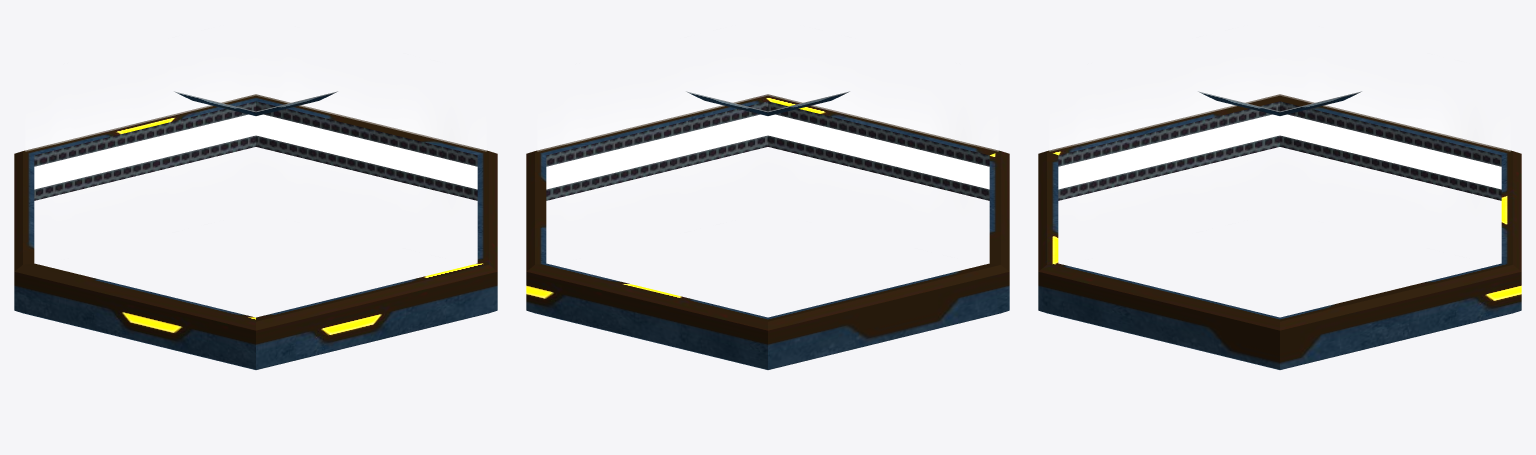
Rendered from entity6074.gltf.
3 renders of one model, left to right at view 1: azimuth 30°, elevation 25°; view 2: azimuth 150°, elevation 25°; view 3: azimuth 270°, elevation 25°, orthographic.
Parts seen in each view (by area): view 1: node_Museum_Hex_Propeler_01_Gear_0, node_Museum_Hex_Propeler_Fade, node_Museum_Hex_Propeler_01_c (2); view 2: node_Museum_Hex_Propeler_01_Gear_0, node_Museum_Hex_Propeler_Fade, node_Museum_Hex_Propeler_01_c (2); view 3: node_Museum_Hex_Propeler_01_Gear_0, node_Museum_Hex_Propeler_Fade, node_Museum_Hex_Propeler_01_c (2).
Boxes of the visible parts, x1=… form: node_Museum_Hex_Propeler_01_Gear_0: x1=14, y1=94, x2=497, y2=369; node_Museum_Hex_Propeler_Fade: x1=25, y1=71, x2=486, y2=202; node_Museum_Hex_Propeler_01_c (2): x1=174, y1=91, x2=337, y2=115; node_Museum_Hex_Propeler_01_Gear_0: x1=526, y1=94, x2=1009, y2=369; node_Museum_Hex_Propeler_Fade: x1=537, y1=71, x2=998, y2=202; node_Museum_Hex_Propeler_01_c (2): x1=686, y1=91, x2=849, y2=115; node_Museum_Hex_Propeler_01_Gear_0: x1=1038, y1=94, x2=1521, y2=369; node_Museum_Hex_Propeler_Fade: x1=1049, y1=71, x2=1510, y2=202; node_Museum_Hex_Propeler_01_c (2): x1=1198, y1=91, x2=1361, y2=115.
Size of the model in its own units: 14.07 by 7.16 by 12.18.
4 materials, 3 textured.
